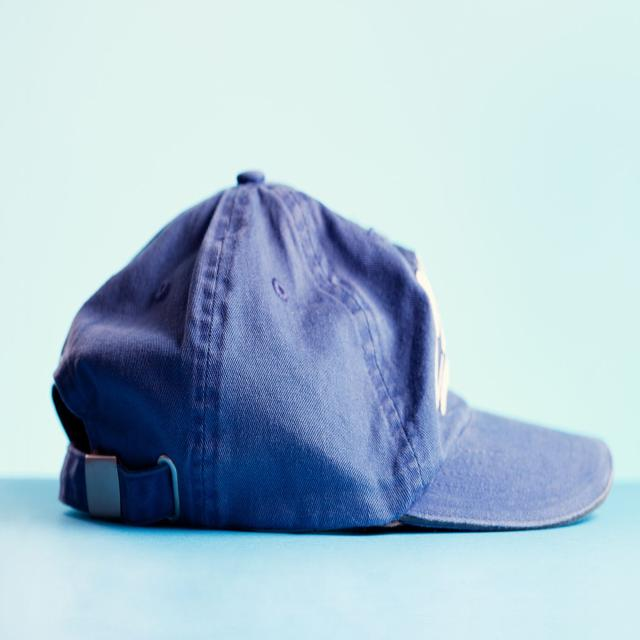mask: (44, 167, 640, 565)
